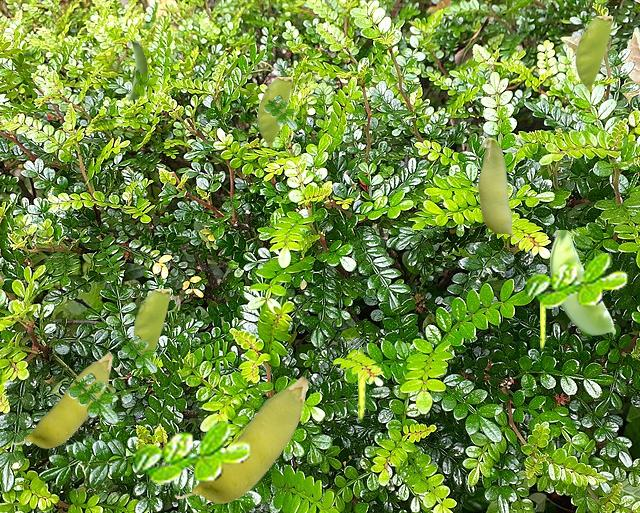pea: (174, 376, 307, 502), (12, 352, 112, 447), (549, 230, 614, 340), (477, 135, 523, 240), (575, 16, 611, 90), (257, 77, 291, 146), (133, 289, 169, 352), (128, 41, 146, 100), (358, 347, 368, 421), (540, 307, 546, 349)
